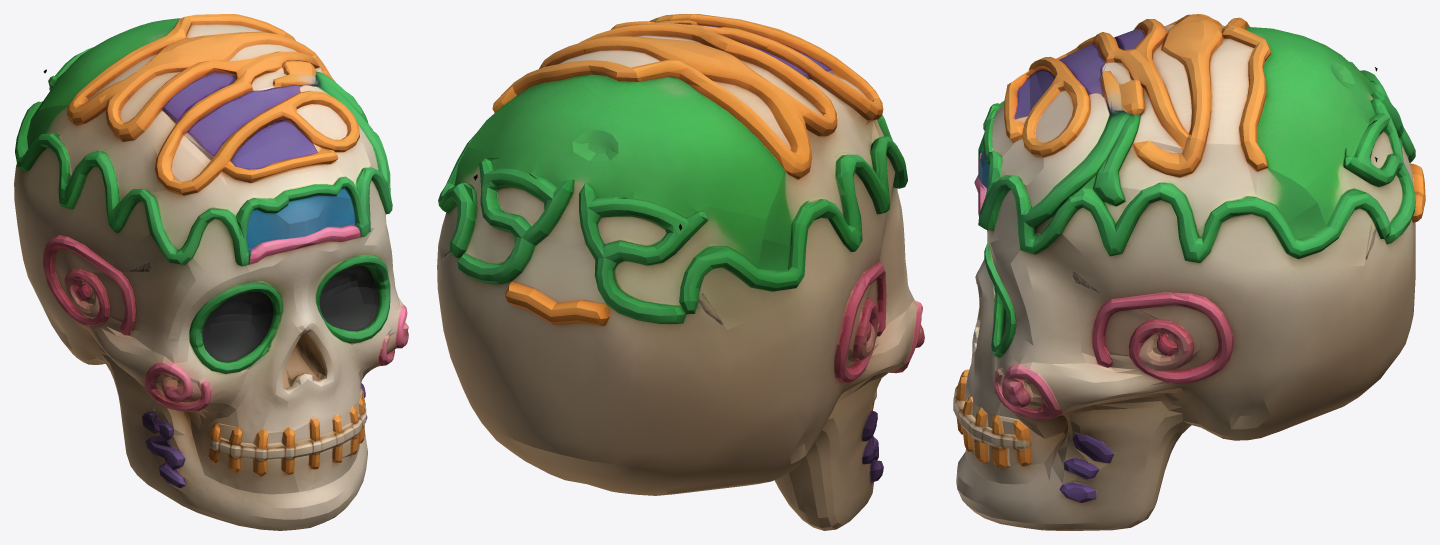
File: calavera.obj
3 renders of one model, left to right at view 1: azimuth 30°, elevation 25°; view 2: azimuth 150°, elevation 25°; view 3: azimuth 270°, elevation 25°, orthographic. The views are drawn at different scales.
Visible parts, largest first — view 1: base:Mesh; view 2: base:Mesh; view 3: base:Mesh.
Boxes of the visible parts, box(x1,y1,x2,y2) form: base:Mesh: box(14, 14, 408, 530); base:Mesh: box(437, 14, 924, 530); base:Mesh: box(953, 14, 1425, 530).
Size of the model in its own units: 0.1664 by 0.2166 by 0.1989.
Materials: 1 (1 with a texture image).
